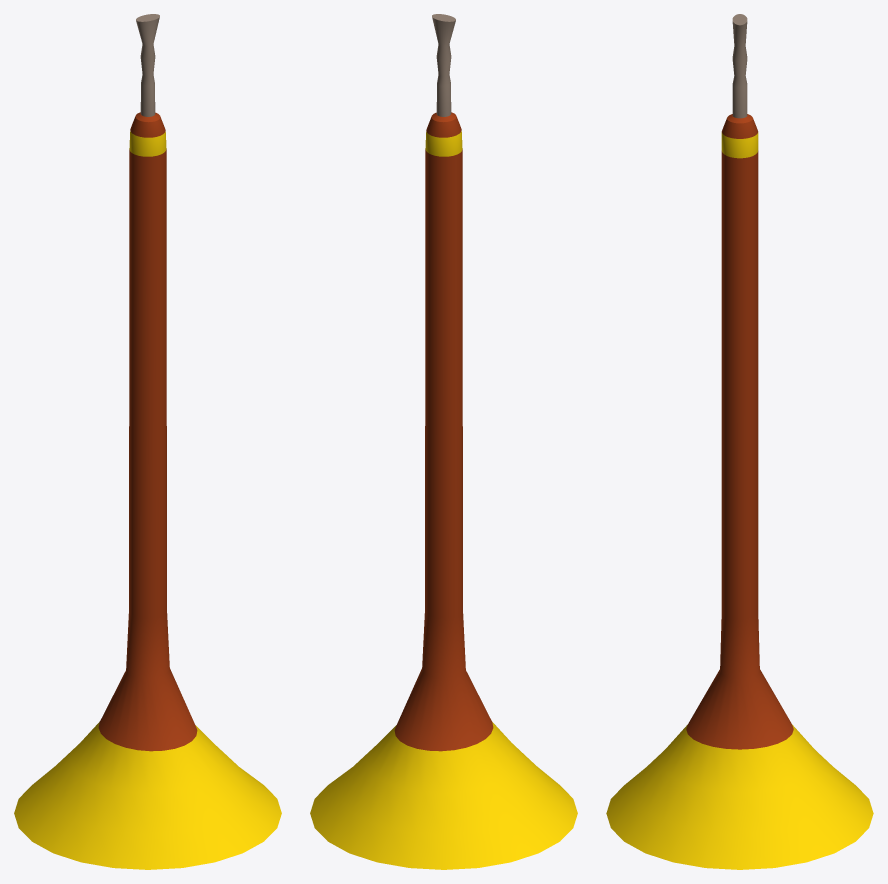
File: Mizmar.fbx
The picture shows the model from 3 angles, left to right: view 1: azimuth 30°, elevation 25°; view 2: azimuth 150°, elevation 25°; view 3: azimuth 270°, elevation 25°; orthographic projection.
Parts seen in each view (by area): view 1: Mizmar; view 2: Mizmar; view 3: Mizmar.
Boxes of the visible parts, box(x1,y1,x2,y2) form: Mizmar: box(14, 14, 281, 869); Mizmar: box(310, 14, 577, 869); Mizmar: box(606, 14, 873, 869).
Size of the model in its own units: 60 by 197 by 60.
